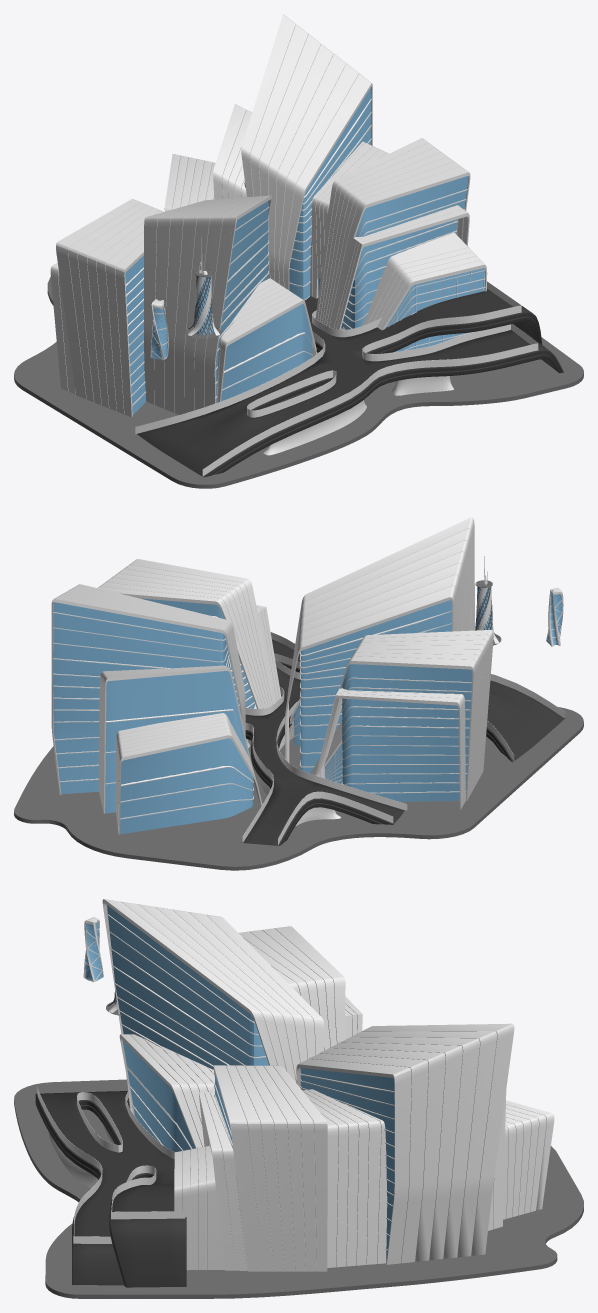
The model's file is 3 more .fbx.
3 views of the same model, one above another, from view 1: azimuth 30°, elevation 25°; view 2: azimuth 150°, elevation 25°; view 3: azimuth 270°, elevation 25° (orthographic). The views are drawn at different scales.
Parts seen in each view (by area): view 1: BldgSM_08_LightMetal.002, BldgSM_08_Glass, BldgSM_08_DkMetal, BldgSM_08_Metal, BldgSM_08_LightMetal.003, BldgSM_08_LightMetal.001, BldgSM_08_LightMetal, TowerSM_01_Glass; view 2: BldgSM_08_Glass, BldgSM_08_LightMetal.002, BldgSM_08_Metal, BldgSM_08_DkMetal, BldgSM_08_LightMetal.001, BldgSM_08_LightMetal.003, BldgSM_08_LightMetal, TowerSM_01_LightMetal, TowerSM_01_Glass; view 3: BldgSM_08_LightMetal.002, BldgSM_08_Metal, BldgSM_08_Glass, BldgSM_08_DkMetal, BldgSM_08_LightMetal.001, BldgSM_08_LightMetal.003, TowerSM_01_Glass, BldgSM_08_LightMetal, TowerSM_01_LightMetal.
Part boxes in pixels (x1,y1,x2,y2): BldgSM_08_LightMetal.002: (50,14,487,417); BldgSM_08_Glass: (125,87,485,414); BldgSM_08_DkMetal: (137,288,563,477); BldgSM_08_Metal: (14,276,583,488); BldgSM_08_LightMetal.003: (135,281,538,476); BldgSM_08_LightMetal.001: (125,98,485,406); BldgSM_08_LightMetal: (263,353,453,455); TowerSM_01_Glass: (151,308,167,359); BldgSM_08_Glass: (53,598,472,834); BldgSM_08_LightMetal.002: (51,517,493,834); BldgSM_08_Metal: (14,707,583,870); BldgSM_08_DkMetal: (241,639,565,845); BldgSM_08_LightMetal.001: (53,611,471,819); BldgSM_08_LightMetal.003: (239,632,564,844); BldgSM_08_LightMetal: (246,734,340,826); TowerSM_01_LightMetal: (546,587,563,646); TowerSM_01_Glass: (547,592,562,645); BldgSM_08_LightMetal.002: (102,899,554,1271); BldgSM_08_Metal: (14,1079,583,1298); BldgSM_08_Glass: (107,905,394,1263); BldgSM_08_DkMetal: (35,1091,186,1287); BldgSM_08_LightMetal.001: (107,914,509,1250); BldgSM_08_LightMetal.003: (37,1086,185,1243); TowerSM_01_Glass: (85,922,102,980); BldgSM_08_LightMetal: (48,1123,114,1188); TowerSM_01_LightMetal: (83,917,103,982).
Bounding box in the file's own units: 422162 × 210509 × 457554.
